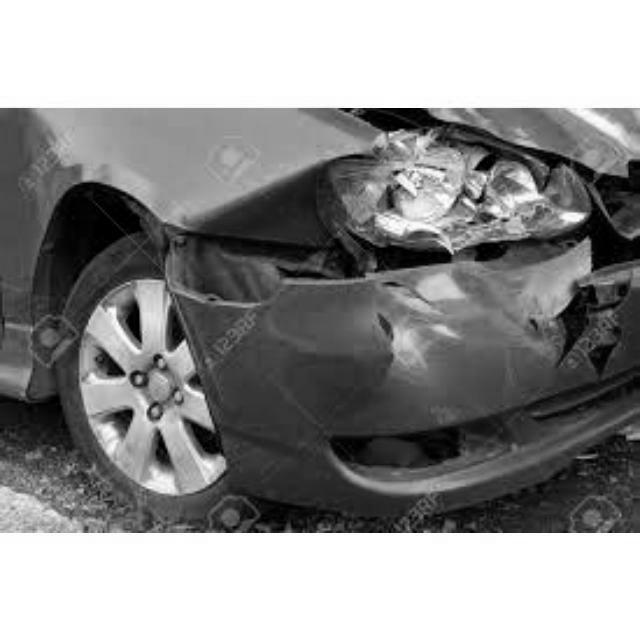Headlight-damage: (312, 108, 588, 263)
front-bumper-dent: (140, 228, 638, 502)
